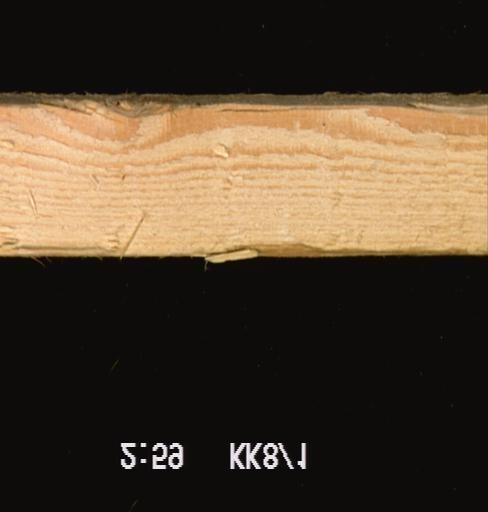split: (182, 232, 469, 257), (0, 234, 120, 256), (212, 104, 358, 115)
wave: (33, 95, 203, 127), (393, 94, 486, 118)
